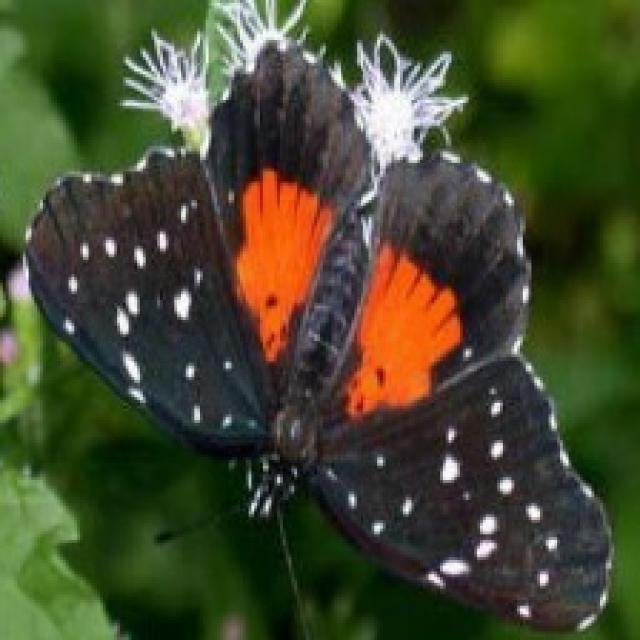butterfly: (20, 0, 614, 637)
